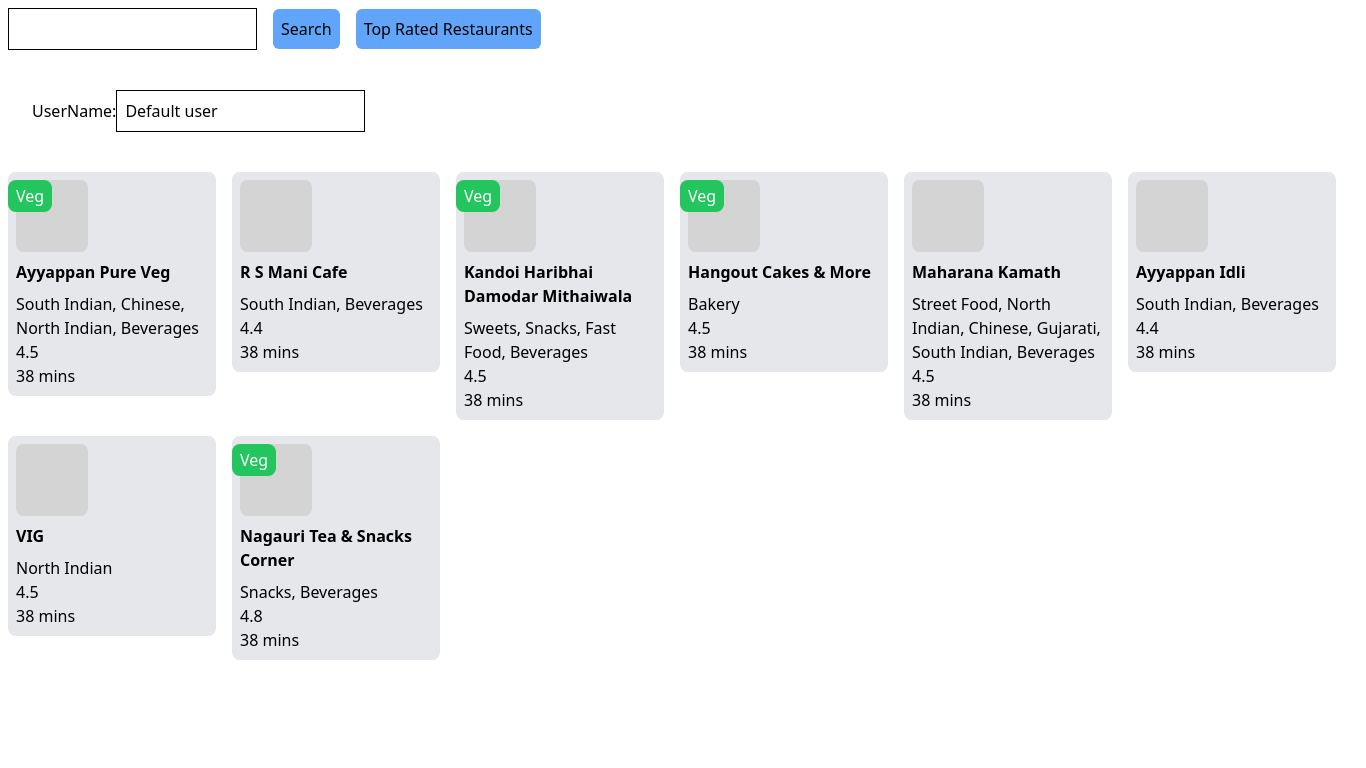
Test: should search res list for coffee text input
This screenshot has width=1366, height=768.
Type "VIG" into the field with test id "searchInput" at {"x": 132, "y": 29}, box [8,8,257,50]
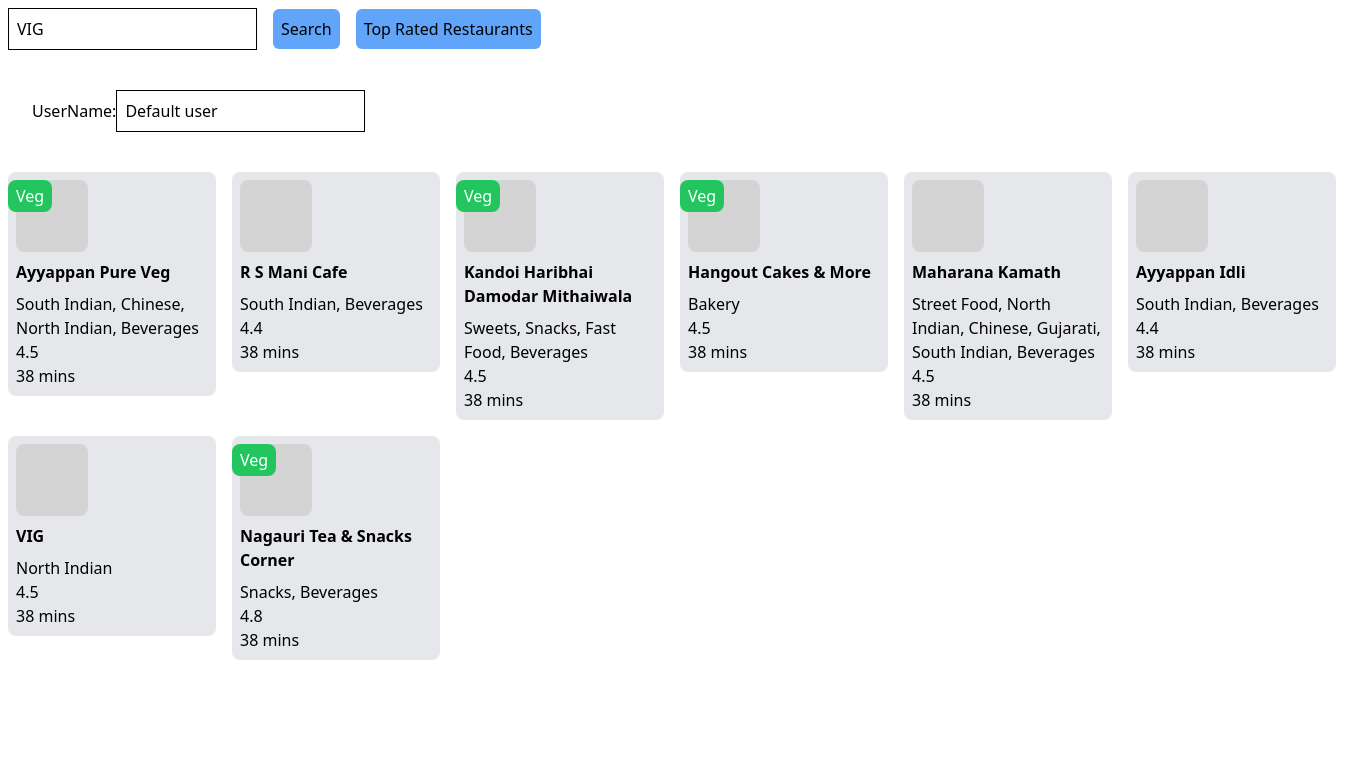
Click the button "Search" at {"x": 306, "y": 29}, box [273,9,340,49]
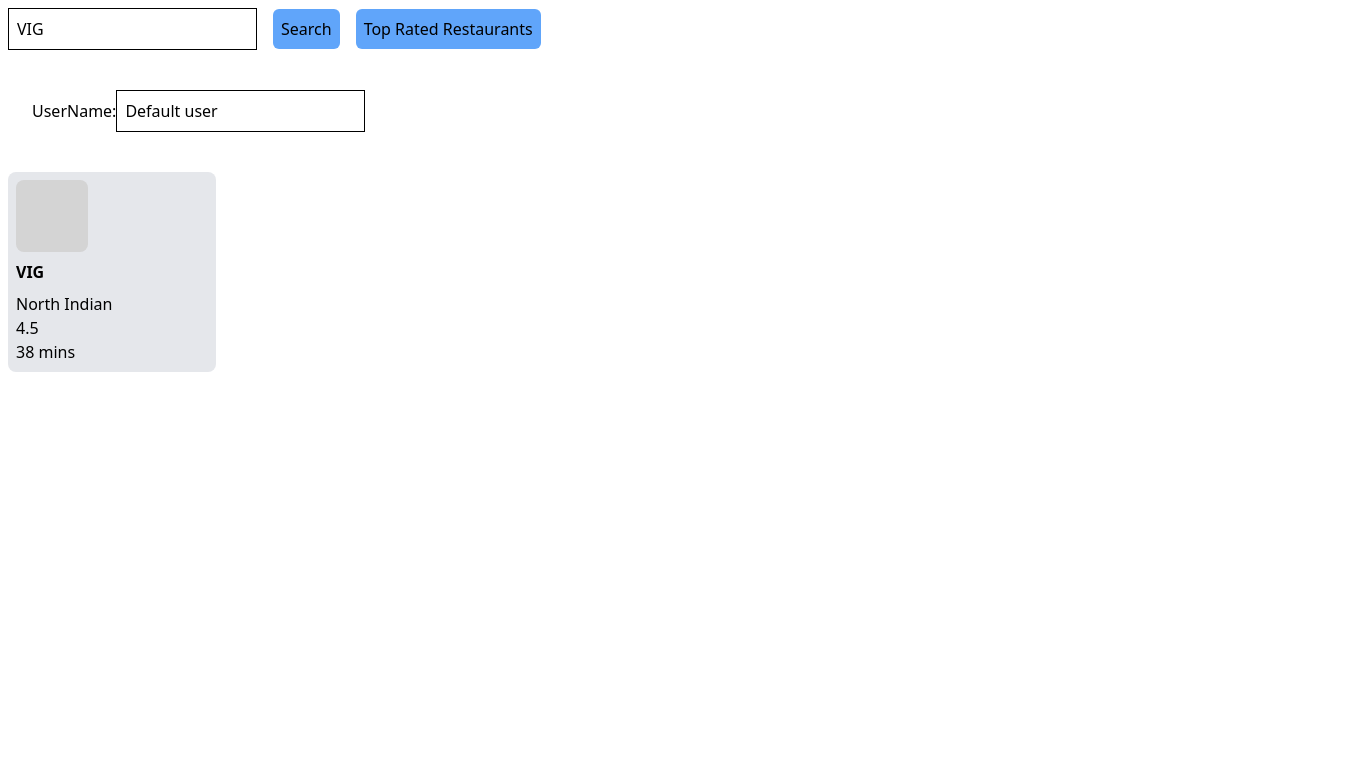
Expected: the number of elements with test id "resCard" is 1, [8,172,216,372]
